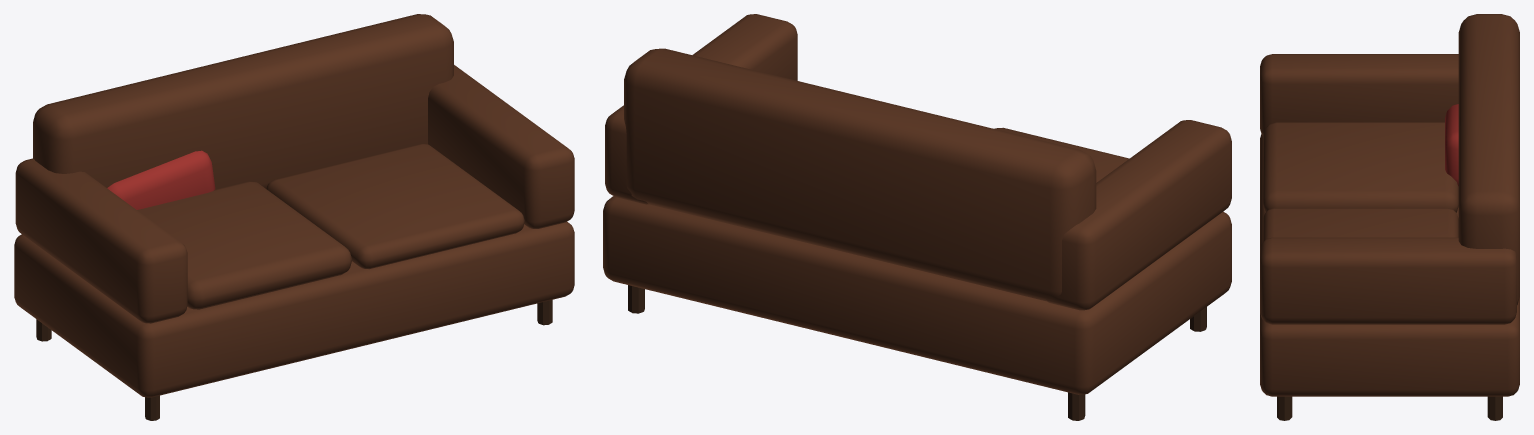
The model's file is mae_sofa_small.glb.
The picture shows the model from 3 angles, left to right: view 1: azimuth 30°, elevation 25°; view 2: azimuth 150°, elevation 25°; view 3: azimuth 270°, elevation 25°; orthographic projection. The views are drawn at different scales.
Parts seen in each view (by area): view 1: mae_sofa_small; view 2: mae_sofa_small; view 3: mae_sofa_small.
Part boxes in pixels (box(x1,y1,x2,y2)): mae_sofa_small: box(14, 14, 574, 420); mae_sofa_small: box(603, 14, 1231, 420); mae_sofa_small: box(1260, 14, 1519, 420).
Bounding box in the file's own units: 1.6 × 0.8 × 0.85.
